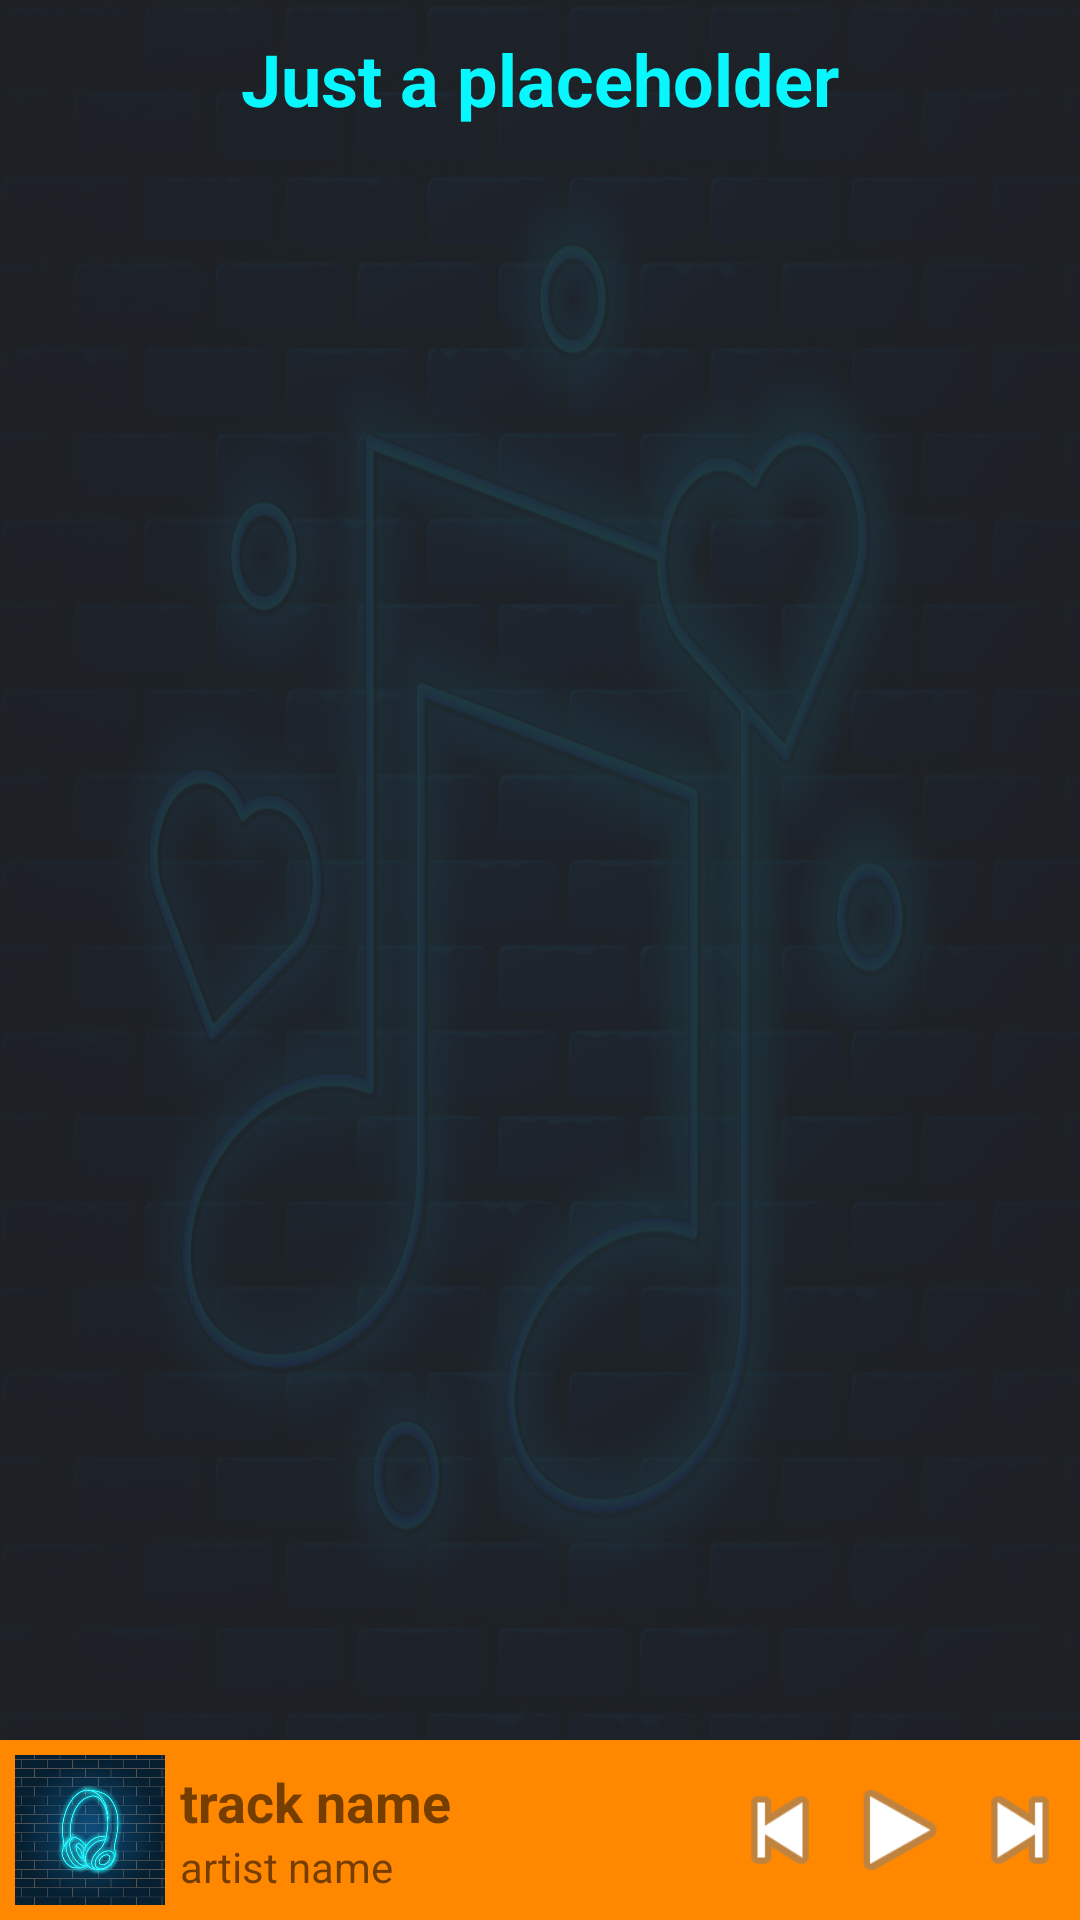

Icon bounding boxes for this 1080 × 1920 phone screenshot, format region(x1, y1, x2, y2):
next: region(991, 1796, 1049, 1864)
play: region(864, 1790, 936, 1870)
previous: region(751, 1796, 809, 1864)
